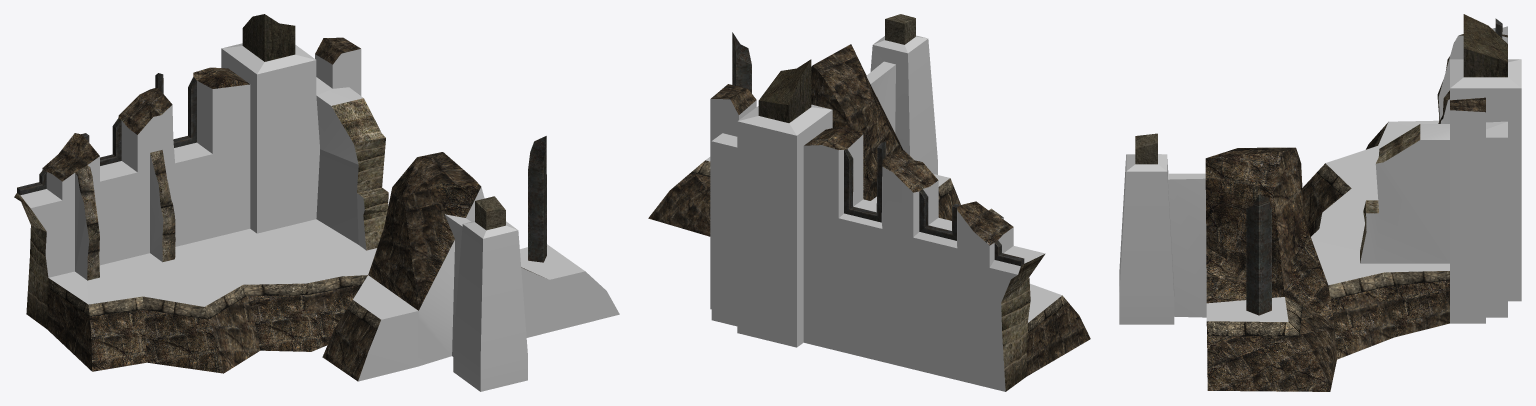
3 renders of one model, left to right at view 1: azimuth 30°, elevation 25°; view 2: azimuth 150°, elevation 25°; view 3: azimuth 270°, elevation 25°, orthographic.
Parts seen in each view (by area): view 1: Elements_Labirint_05; view 2: Elements_Labirint_05; view 3: Elements_Labirint_05.
Part boxes in pixels (x1,y1,x2,y2): Elements_Labirint_05: (14,14,619,391); Elements_Labirint_05: (648,14,1090,391); Elements_Labirint_05: (1119,14,1521,391).
Bounding box in the file's own units: 1628 × 1217 × 893.
